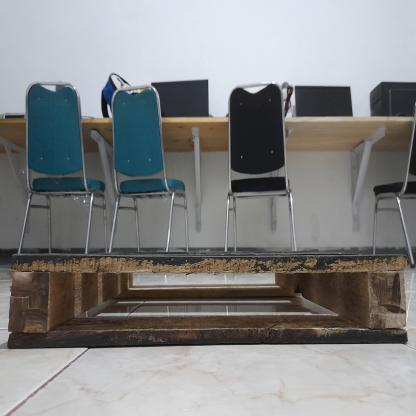Wooden-Pallet: (5, 245, 413, 353)
